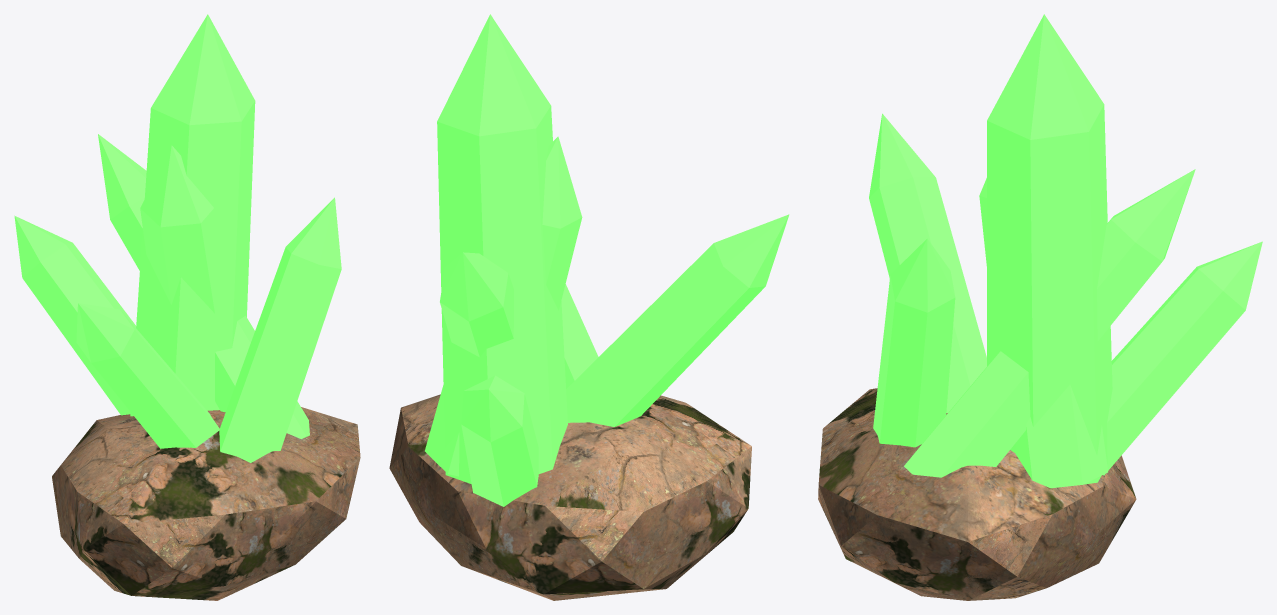
File: Crystal_Green_S.fbx
3 renders of one model, left to right at view 1: azimuth 30°, elevation 25°; view 2: azimuth 150°, elevation 25°; view 3: azimuth 270°, elevation 25°, orthographic. The views are drawn at different scales.
Parts seen in each view (by area): view 1: Crystal_Green_S; view 2: Crystal_Green_S; view 3: Crystal_Green_S.
Part boxes in pixels (x1,y1,x2,y2): Crystal_Green_S: (14,14,360,600); Crystal_Green_S: (389,14,789,600); Crystal_Green_S: (818,14,1262,600).
Size of the model in its own units: 1.59 by 2.51 by 1.72.
